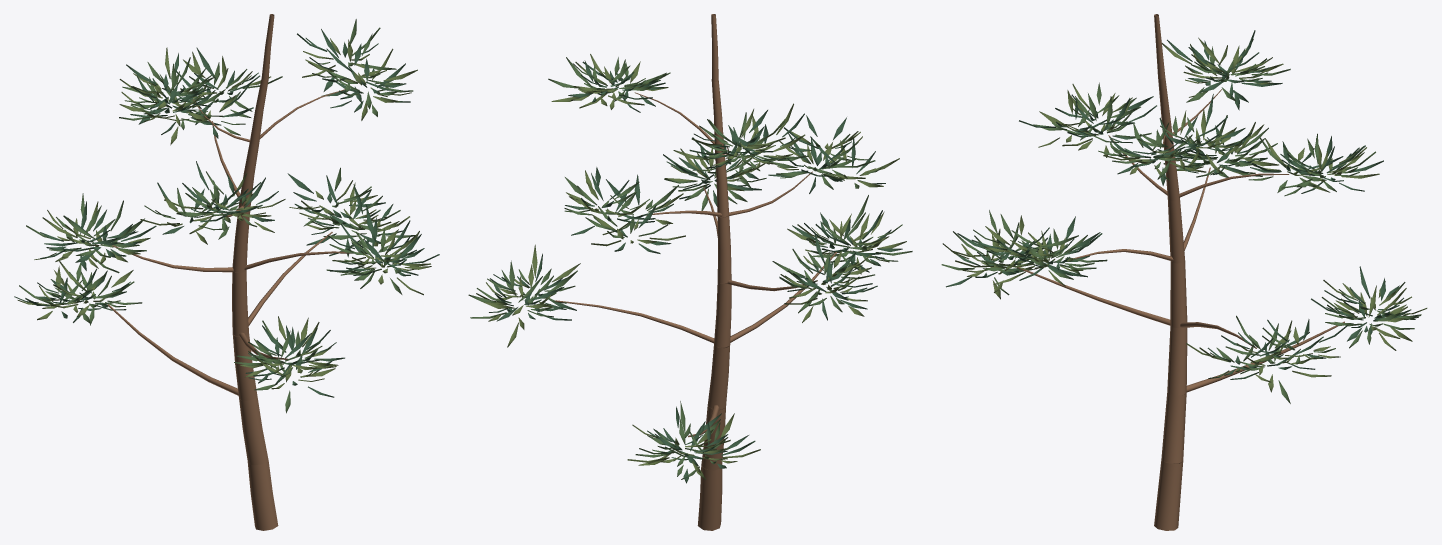
File: Pin_Laricio_2_Low.fbx
3 views of the same model, side by side, from view 1: azimuth 30°, elevation 25°; view 2: azimuth 150°, elevation 25°; view 3: azimuth 270°, elevation 25° (orthographic).
Parts seen in each view (by area): view 1: Pin_Laricio_2_Low; view 2: Pin_Laricio_2_Low; view 3: Pin_Laricio_2_Low.
Boxes of the visible parts, left/top/right/bottom form: Pin_Laricio_2_Low: left=14, top=14, right=439, bottom=530; Pin_Laricio_2_Low: left=468, top=14, right=912, bottom=530; Pin_Laricio_2_Low: left=941, top=14, right=1427, bottom=530.
Size of the model in its own units: 674 by 883 by 757.
